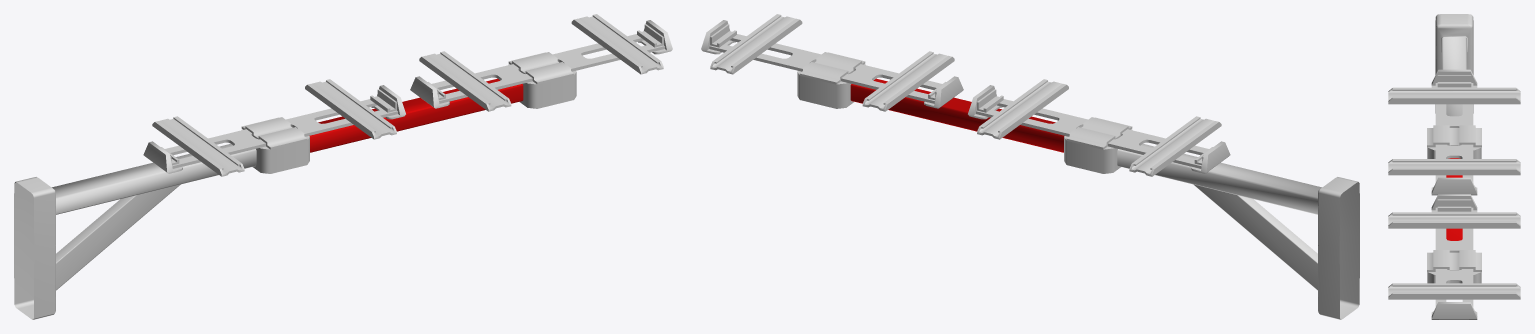
The model's file is WallConveyor-12.fbx.
The picture shows the model from 3 angles, left to right: view 1: azimuth 30°, elevation 25°; view 2: azimuth 150°, elevation 25°; view 3: azimuth 270°, elevation 25°; orthographic projection. The views are drawn at different scales.
Visible parts, largest first — view 1: SM_CPWall-12_Pole, SM_CPWall-12, SM_CPWall-12_Strut_base, SM_CPWall-12_Strut_long; view 2: SM_CPWall-12_Pole, SM_CPWall-12, SM_CPWall-12_Strut_base, SM_CPWall-12_Strut_long; view 3: SM_CPWall-12_Pole, SM_CPWall-12, SM_CPWall-12_Strut_base, SM_CPWall-12_Strut_long.
Part boxes in pixels (box(x1,y1,x2,y2)): SM_CPWall-12_Pole: box(143, 14, 672, 176); SM_CPWall-12: box(14, 177, 180, 319); SM_CPWall-12_Strut_base: box(52, 143, 256, 214); SM_CPWall-12_Strut_long: box(309, 78, 523, 152); SM_CPWall-12_Pole: box(701, 14, 1230, 176); SM_CPWall-12: box(1193, 177, 1359, 319); SM_CPWall-12_Strut_base: box(1117, 143, 1321, 214); SM_CPWall-12_Strut_long: box(850, 78, 1064, 152); SM_CPWall-12_Pole: box(1388, 69, 1520, 319); SM_CPWall-12: box(1435, 14, 1473, 113); SM_CPWall-12_Strut_base: box(1442, 37, 1466, 116); SM_CPWall-12_Strut_long: box(1446, 158, 1462, 240).
Size of the model in its own units: 477 by 95.2 by 89.92.
